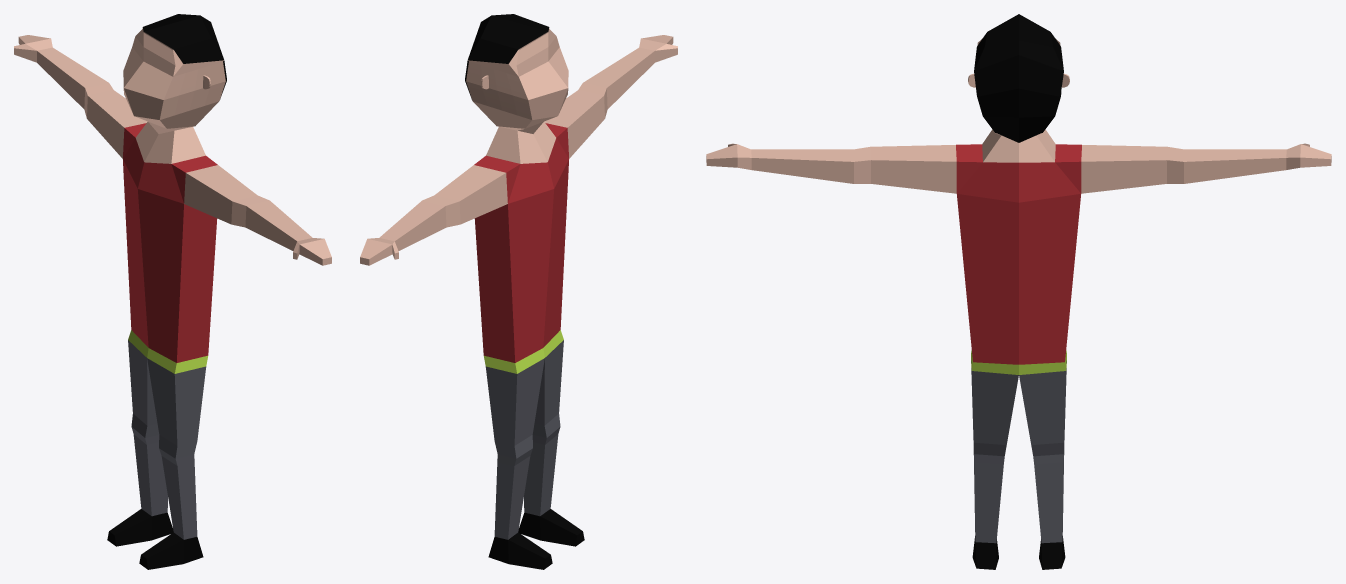
File: killerBoi1.fbx
The picture shows the model from 3 angles, left to right: view 1: azimuth 30°, elevation 25°; view 2: azimuth 150°, elevation 25°; view 3: azimuth 270°, elevation 25°; orthographic projection. The views are drawn at different scales.
Visible parts, largest first — view 1: KillerBoi2.004; view 2: KillerBoi2.004; view 3: KillerBoi2.004.
Part boxes in pixels (x1,y1,x2,y2): KillerBoi2.004: (14, 14, 331, 569); KillerBoi2.004: (360, 14, 677, 569); KillerBoi2.004: (706, 14, 1331, 569).
Bounding box in the file's own units: 96.62 × 511 × 539.
